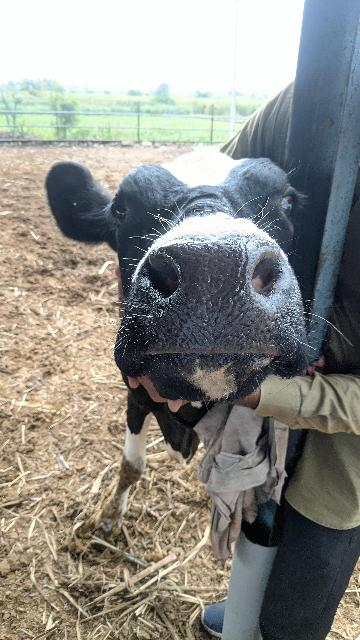Muzzle: (160, 238, 278, 354)
